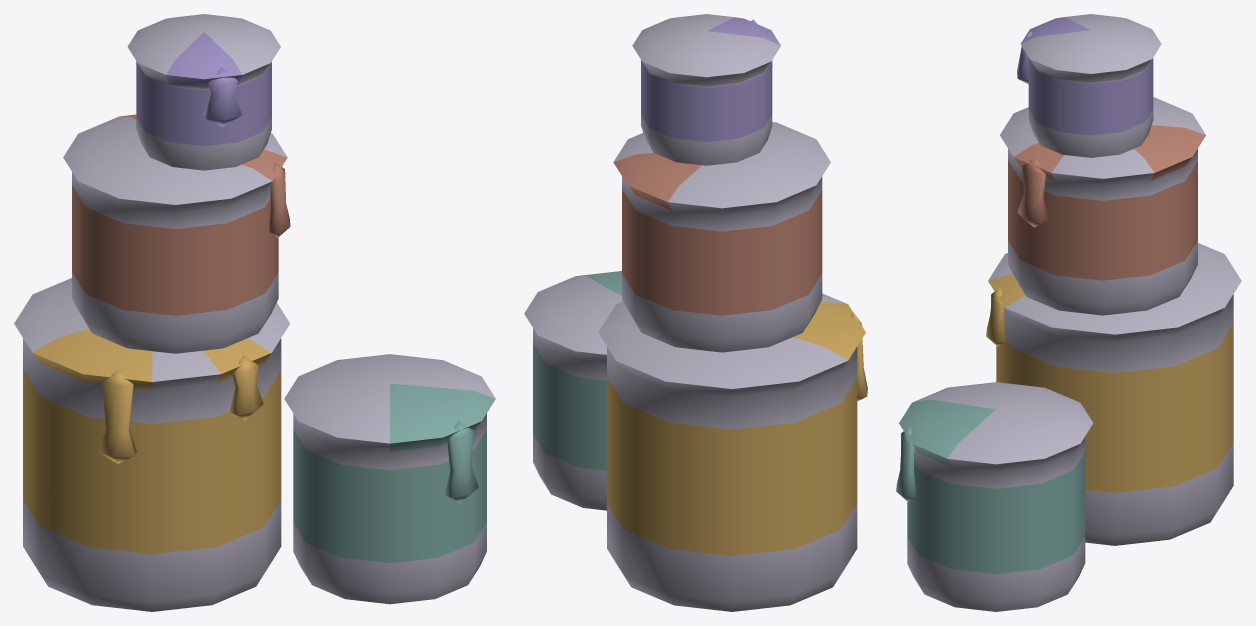
File: prop_can_stack.glb
The picture shows the model from 3 angles, left to right: view 1: azimuth 30°, elevation 25°; view 2: azimuth 150°, elevation 25°; view 3: azimuth 270°, elevation 25°; orthographic projection. The views are drawn at different scales.
Parts seen in each view (by area): view 1: CanStackMesh; view 2: CanStackMesh; view 3: CanStackMesh.
Part boxes in pixels (<box>): CanStackMesh: <box>14,14,495,611</box>; CanStackMesh: <box>524,14,867,611</box>; CanStackMesh: <box>896,14,1241,611</box>.
Size of the model in its own units: 0.688 by 0.905 by 0.5826.
